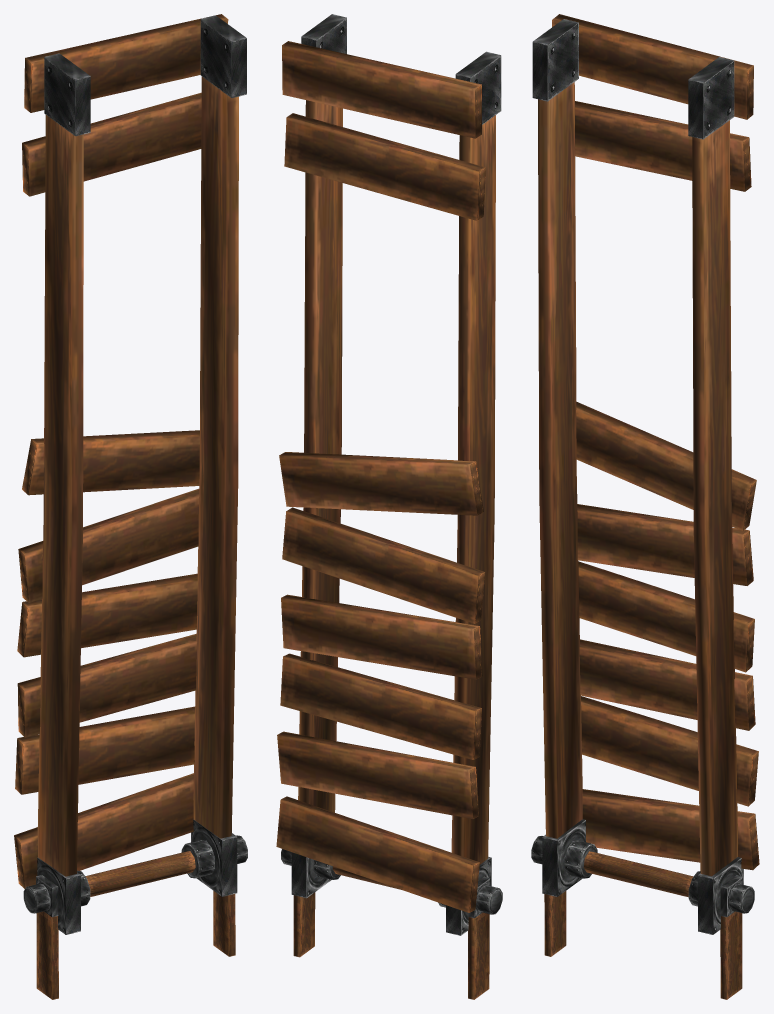
The model's file is INST_SWORDLIGHT_BRIDGE01A_ANI.fbx.
3 renders of one model, left to right at view 1: azimuth 30°, elevation 25°; view 2: azimuth 150°, elevation 25°; view 3: azimuth 330°, elevation 25°, orthographic.
Parts seen in each view (by area): view 1: INST_SWORDLIGHT_BRIDGE01A_ANI; view 2: INST_SWORDLIGHT_BRIDGE01A_ANI; view 3: INST_SWORDLIGHT_BRIDGE01A_ANI.
Part boxes in pixels (x1,y1,x2,y2): INST_SWORDLIGHT_BRIDGE01A_ANI: (14,14,247,999); INST_SWORDLIGHT_BRIDGE01A_ANI: (276,14,502,999); INST_SWORDLIGHT_BRIDGE01A_ANI: (531,14,759,999).
Bounding box in the file's own units: 16135 × 68112 × 5992.
5 materials, 5 textured.
